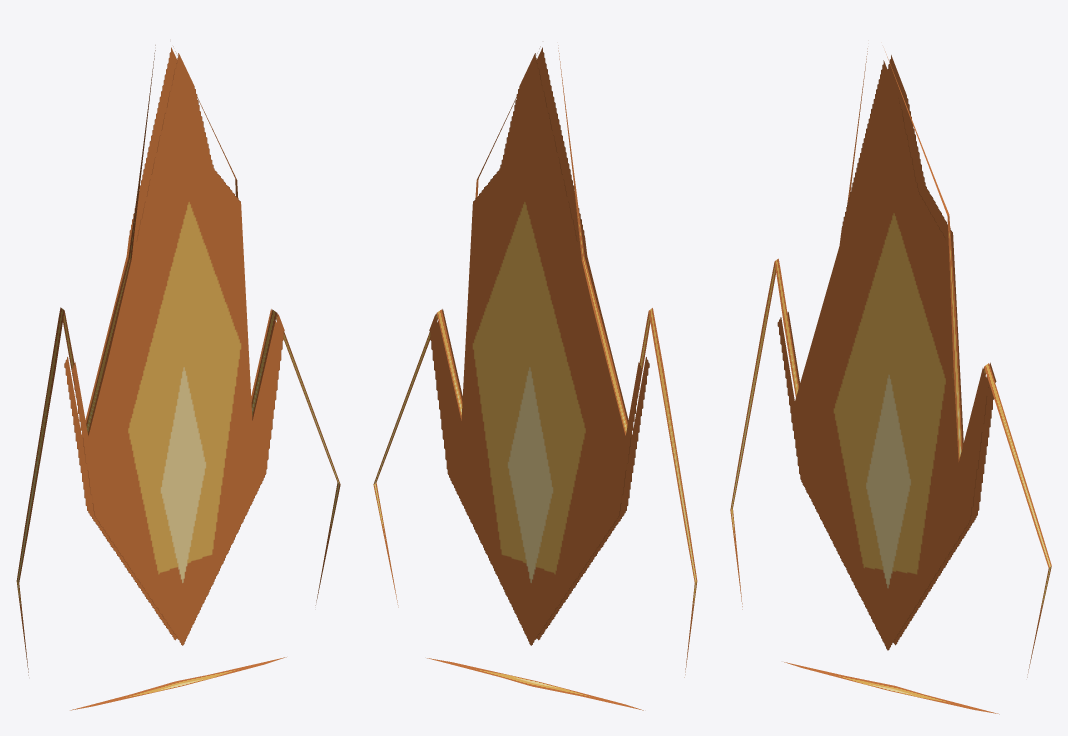
File: WarrensC_CCS64_FlameCard_Mars_SM.fbx
The picture shows the model from 3 angles, left to right: view 1: azimuth 30°, elevation 25°; view 2: azimuth 150°, elevation 25°; view 3: azimuth 330°, elevation 25°; orthographic projection.
Parts seen in each view (by area): view 1: WarrensC_CCS64_FlameCard_Mars_SM.001; view 2: WarrensC_CCS64_FlameCard_Mars_SM.001; view 3: WarrensC_CCS64_FlameCard_Mars_SM.001.
Boxes of the visible parts, x1,y1,x2,y2 form: WarrensC_CCS64_FlameCard_Mars_SM.001: [16, 45, 340, 710]; WarrensC_CCS64_FlameCard_Mars_SM.001: [373, 45, 697, 710]; WarrensC_CCS64_FlameCard_Mars_SM.001: [730, 48, 1051, 714].
Bounding box in the file's own units: 25 × 1 × 50.
